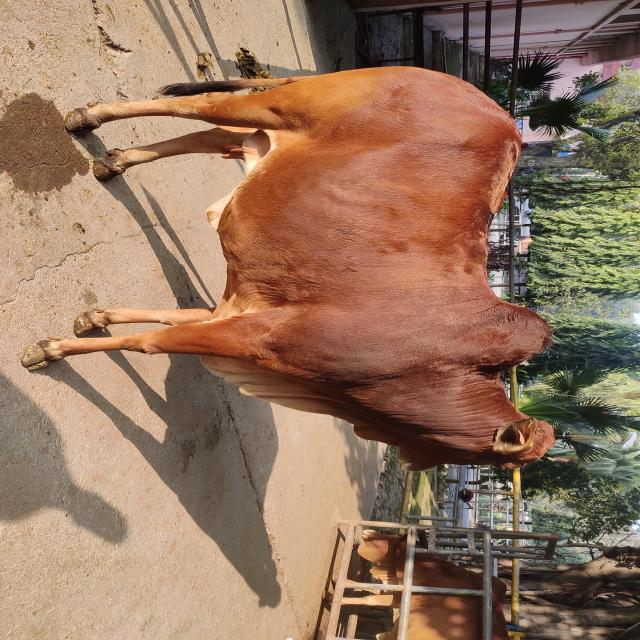cow: (20, 65, 557, 472)
hump: (484, 284, 553, 376)
